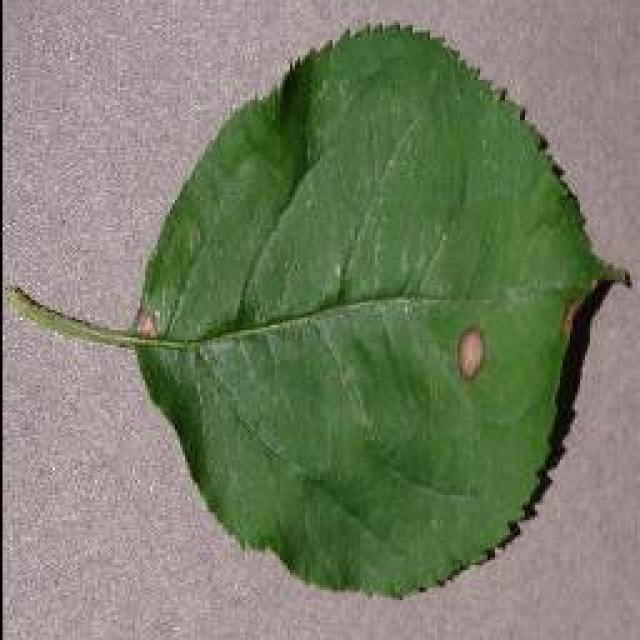Black_rot: (5, 18, 630, 600)
